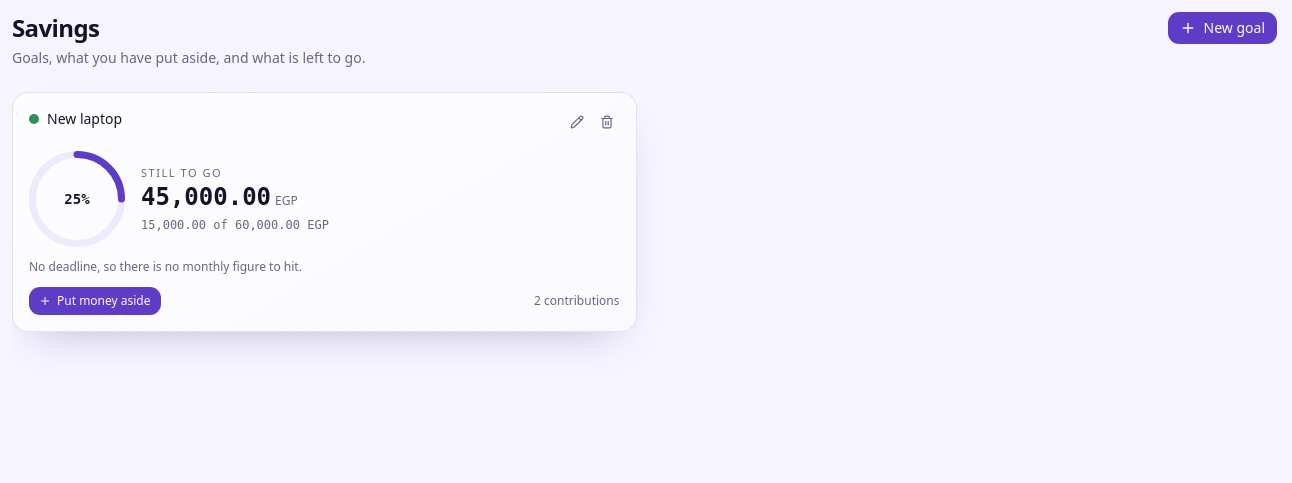
Test: contribution history › shows a foreign contribution in both currencies
Click the button "2 contributions".
click(577, 301)  # box [534,293,620,309]
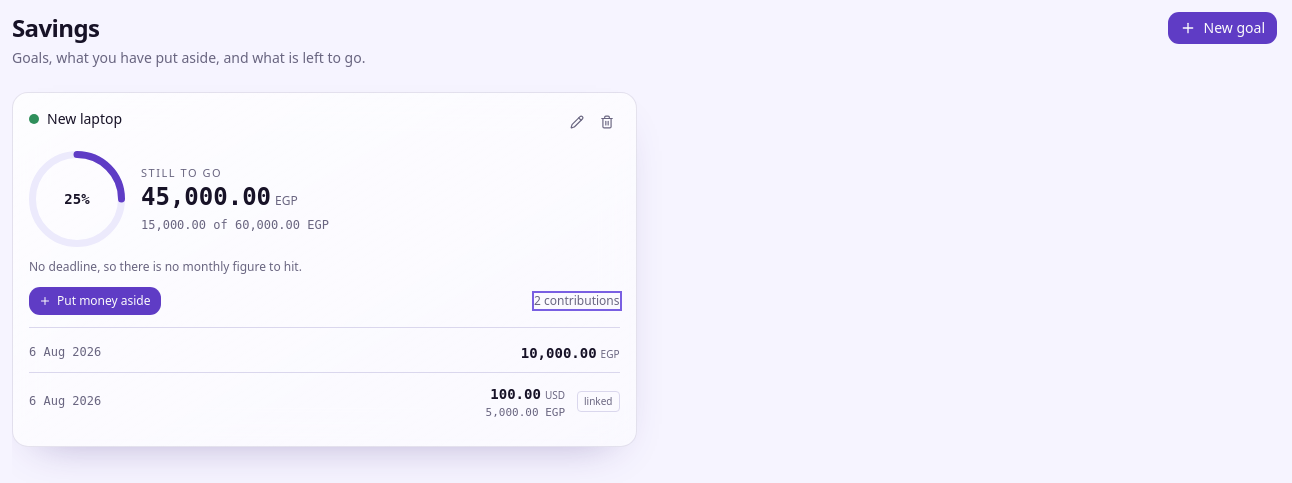
Now the text "5,000.00 EGP" is shown, box [486,405,565,422]
Now the text "linked" is shown, box [577,391,620,412]
